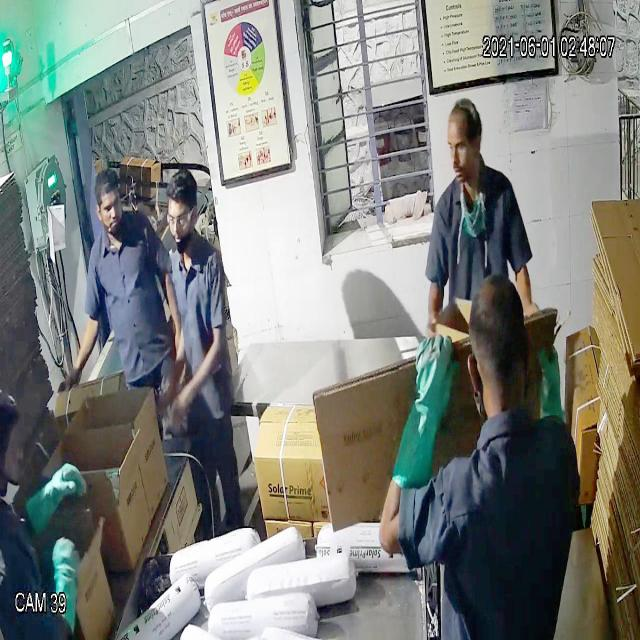glasses: (165, 204, 198, 231)
no-glass: (441, 133, 481, 162), (92, 197, 128, 225)
